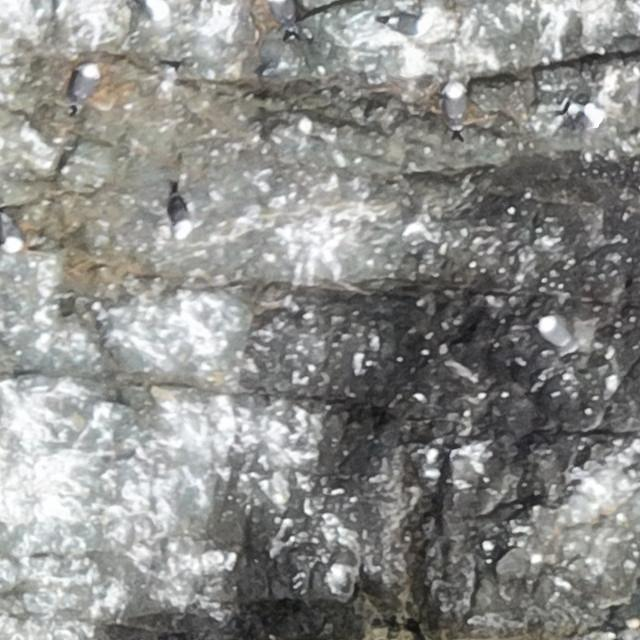umineko: (538, 318, 571, 348), (74, 65, 99, 103), (173, 188, 191, 240), (384, 15, 428, 35), (447, 85, 466, 128), (4, 219, 28, 253), (269, 1, 292, 25)
